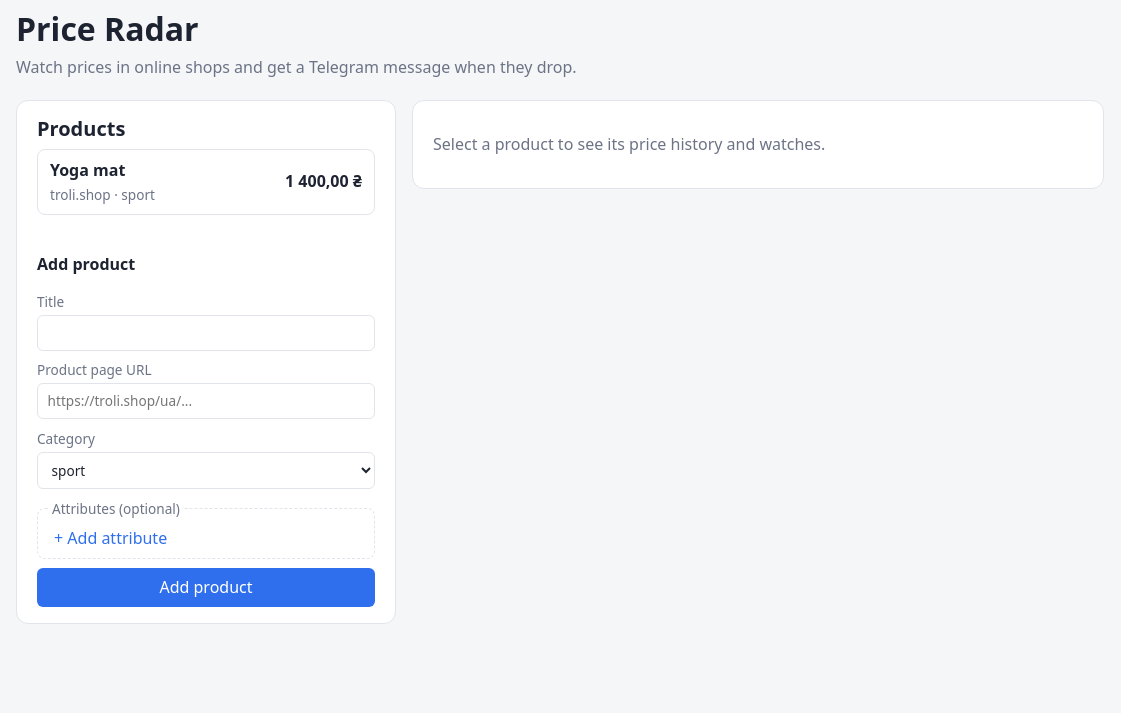
Test case: App › shows the BFF message when the product already exists
Expected: the button "Yoga mat troli.shop · sport 1 400,00 ₴" is shown, [37, 149, 375, 215]
Type "Yoga mat again" into the field labelled "Title". click: point(206, 333)
box: [37, 315, 375, 351]
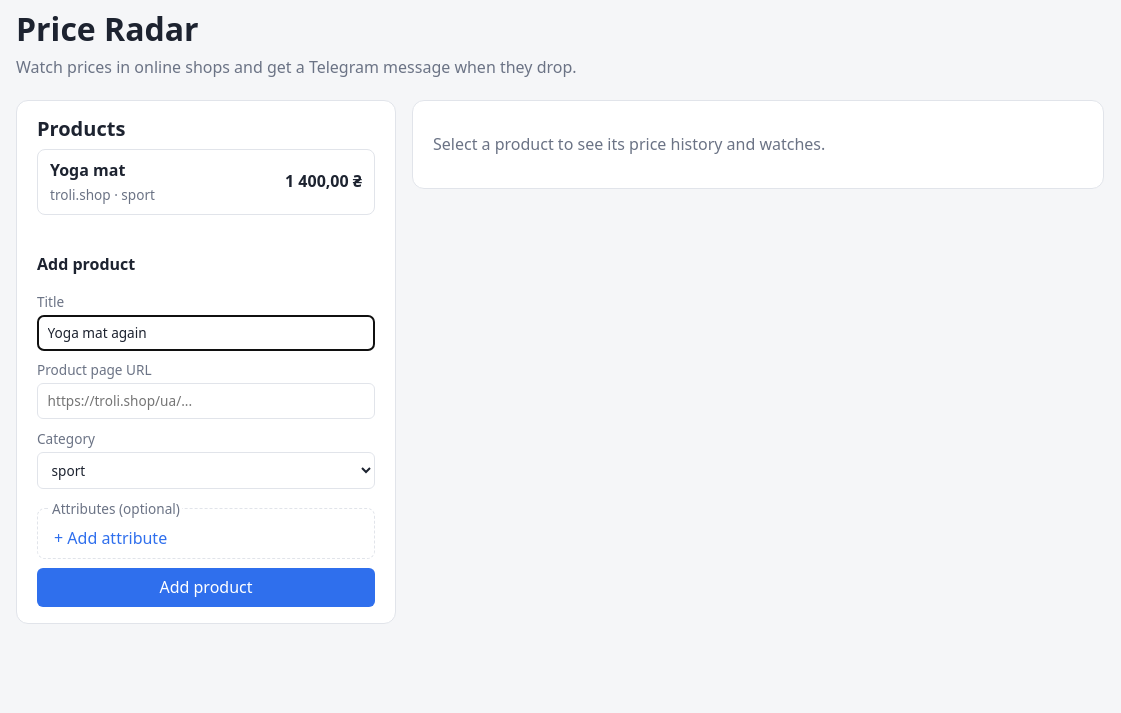
Type "https://troli.shop/ua/yoga-mat" into the field labelled "Product page URL". click: point(206, 401)
box: [37, 383, 375, 419]
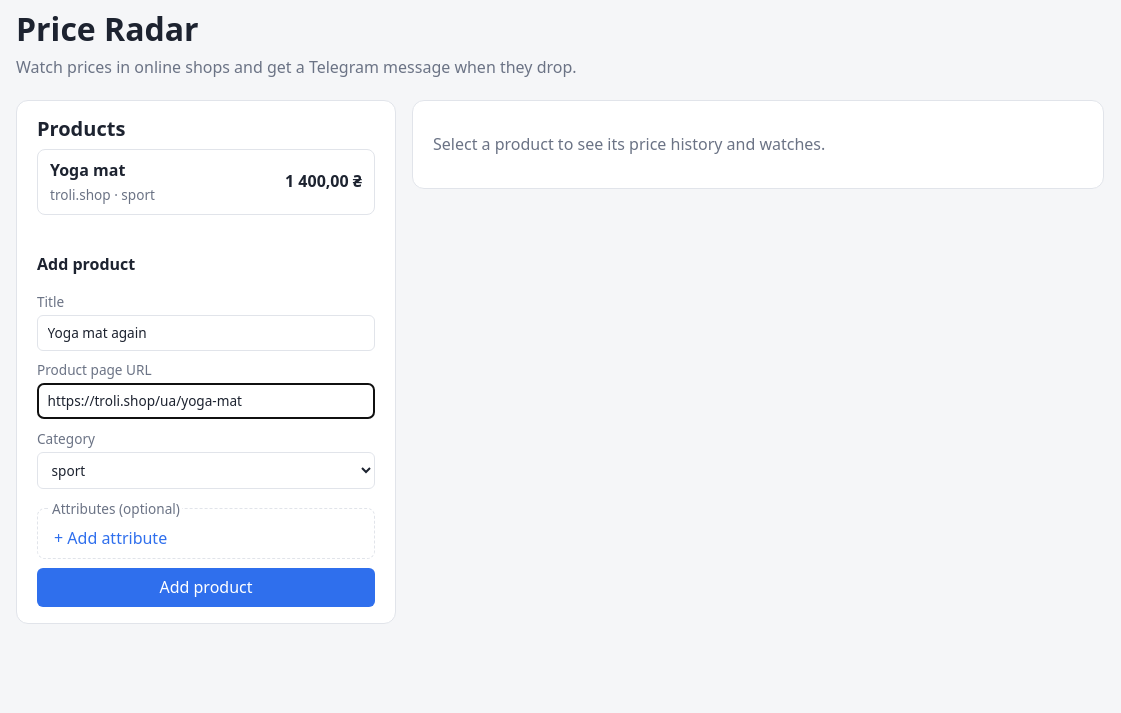
Click the button "Add product". click: point(206, 588)
box: [37, 568, 375, 608]
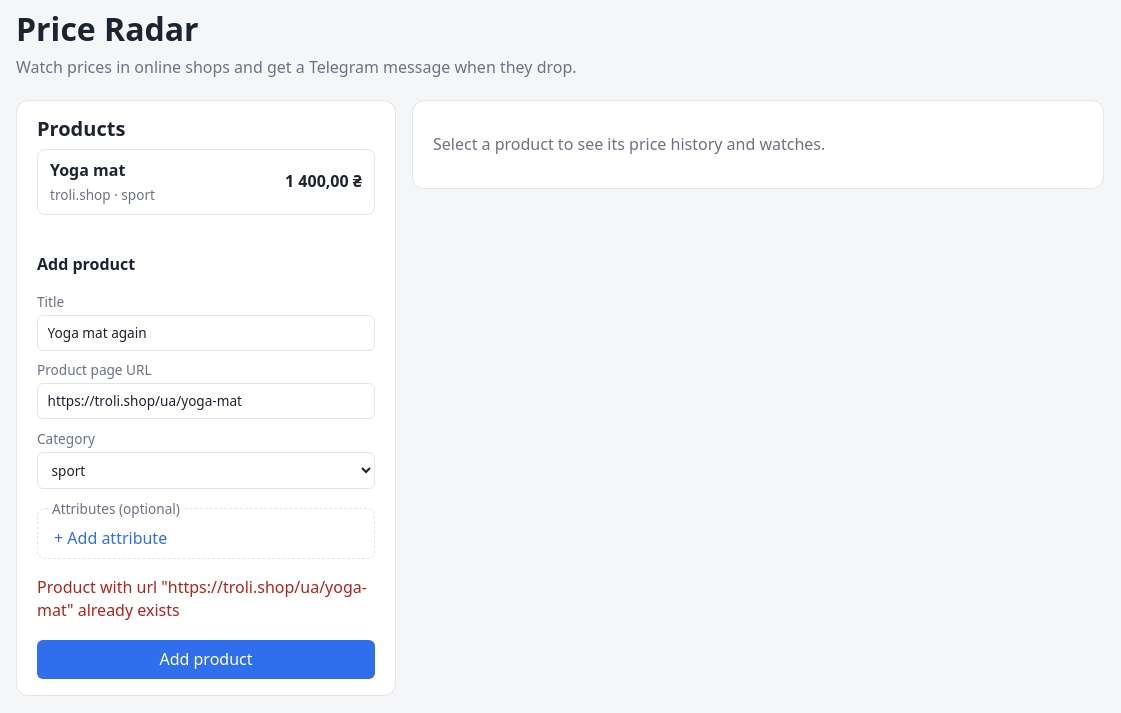
Expected: the message shows "already exists", [37, 576, 367, 622]
